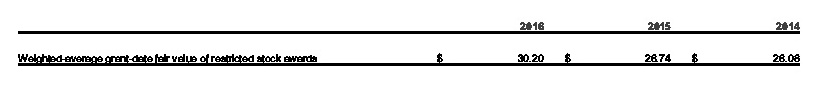table: (0, 0, 820, 88)
